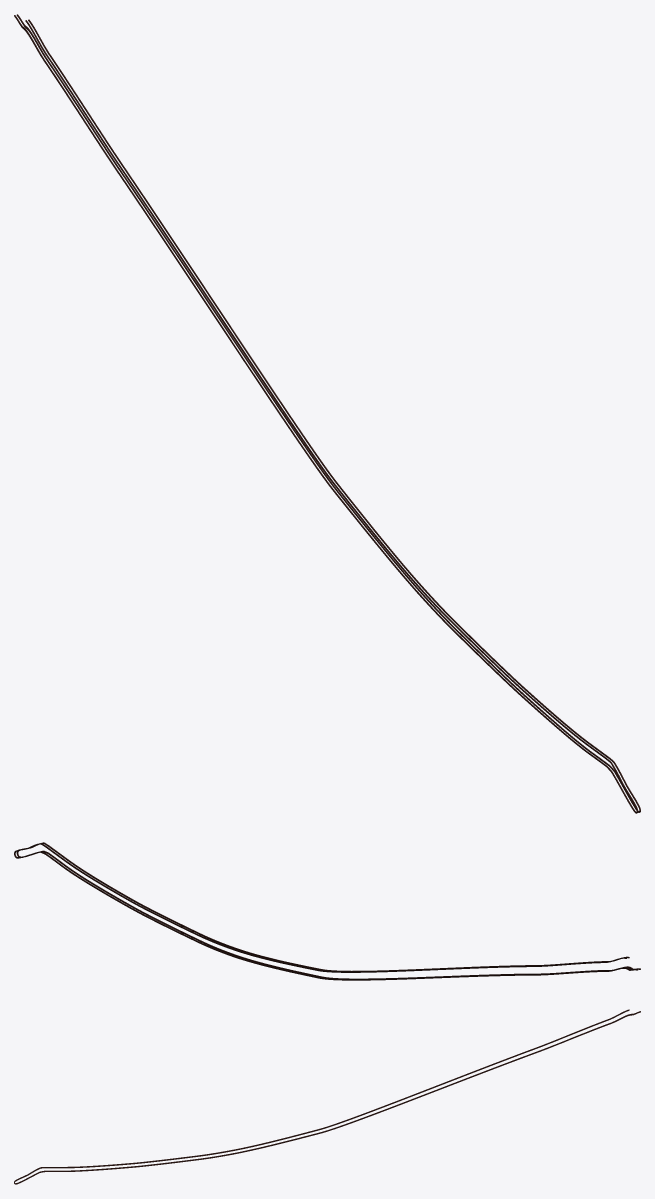
Rendered from Cable_teleferico_estirado.fbx.
The picture shows the model from 3 angles, top to bottom: view 1: azimuth 30°, elevation 25°; view 2: azimuth 210°, elevation 25°; view 3: azimuth 270°, elevation 25°; orthographic projection. The views are drawn at different scales.
Visible parts, largest first — view 1: cable_t; view 2: cable_t; view 3: cable_t.
Boxes of the visible parts, bbox=[...] form: cable_t: bbox=[14, 14, 640, 813]; cable_t: bbox=[14, 842, 640, 980]; cable_t: bbox=[14, 1009, 640, 1184].
Bounding box in the file's own units: 31.29 × 2759 × 8991.
